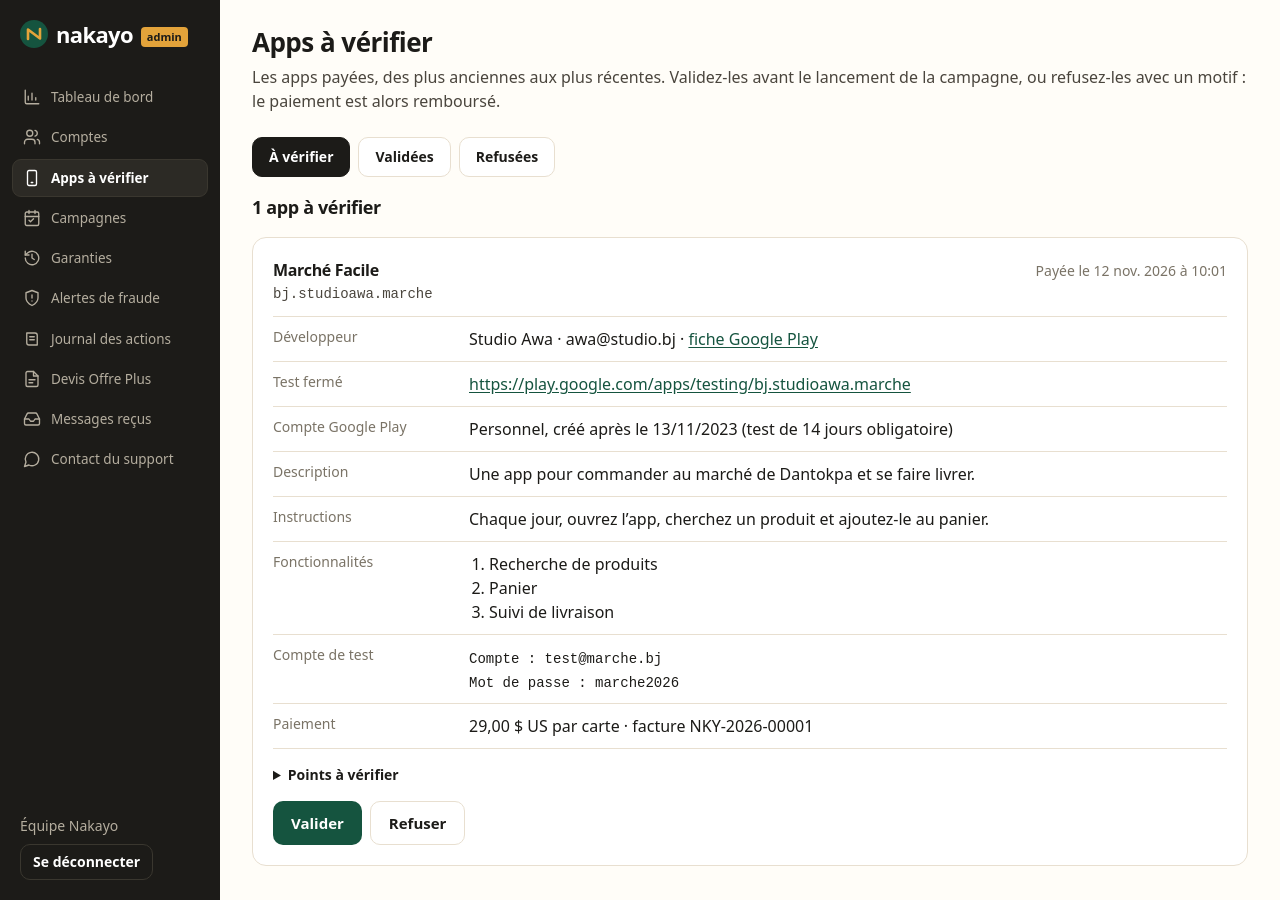
Scenario: Apps à vérifier (US-14) › l’onglet Refusées montre le motif et le remboursement
Click the button "Refusées": [507, 157] box x1=459 y1=137 x2=555 y2=177
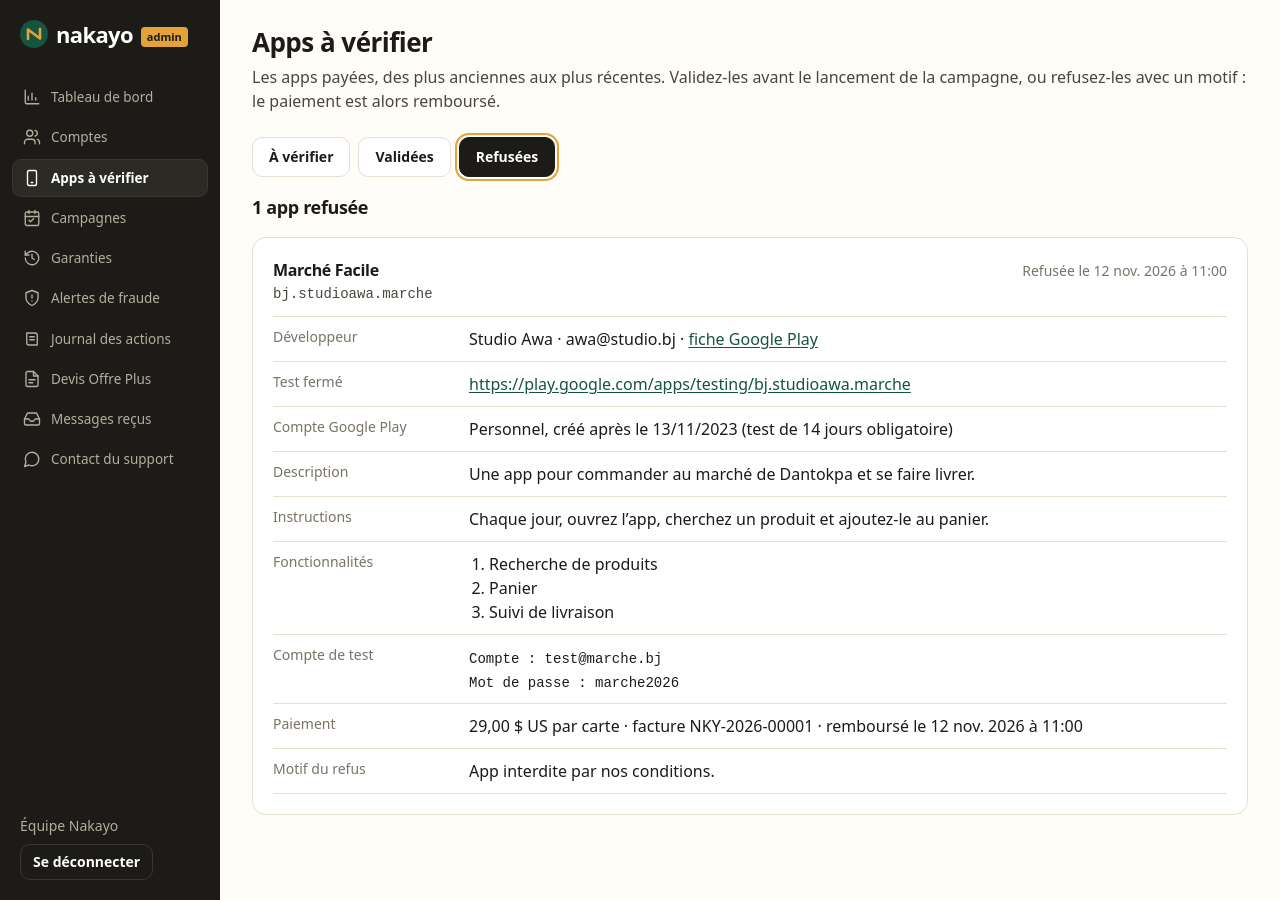
Expected: the heading "1 app refusée" is shown, x1=252 y1=195 x2=368 y2=219
Expected: the text "App interdite par nos conditions." is shown, x1=469 y1=760 x2=715 y2=782
Expected: the text "remboursé le" is shown, x1=813 y1=715 x2=1083 y2=737
